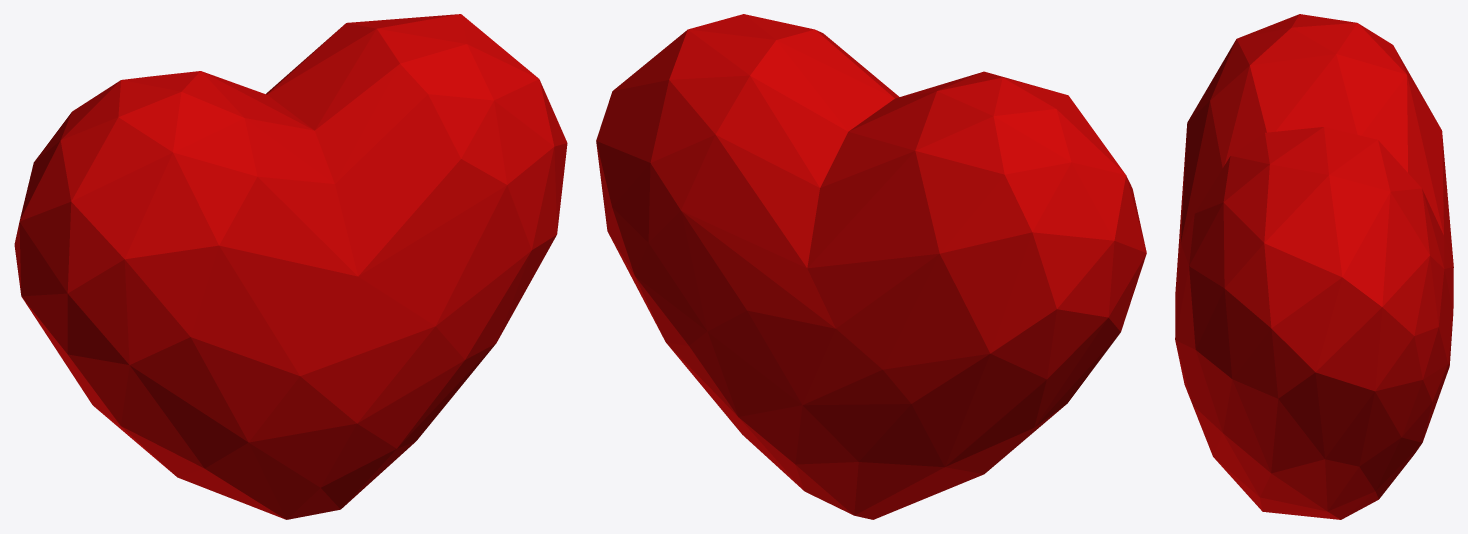
The model's file is red_heart.obj.
3 views of the same model, side by side, from view 1: azimuth 30°, elevation 25°; view 2: azimuth 150°, elevation 25°; view 3: azimuth 270°, elevation 25° (orthographic). The views are drawn at different scales.
Visible parts, largest first — view 1: Love; view 2: Love; view 3: Love.
Part boxes in pixels (x1,y1,x2,y2): Love: (14,14,567,519); Love: (596,14,1146,519); Love: (1175,14,1453,519).
Bounding box in the file's own units: 8.03 × 6.72 × 3.96.
